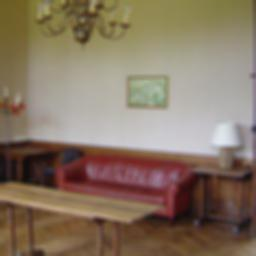Otro Obstaculo: (0, 84, 25, 186)
